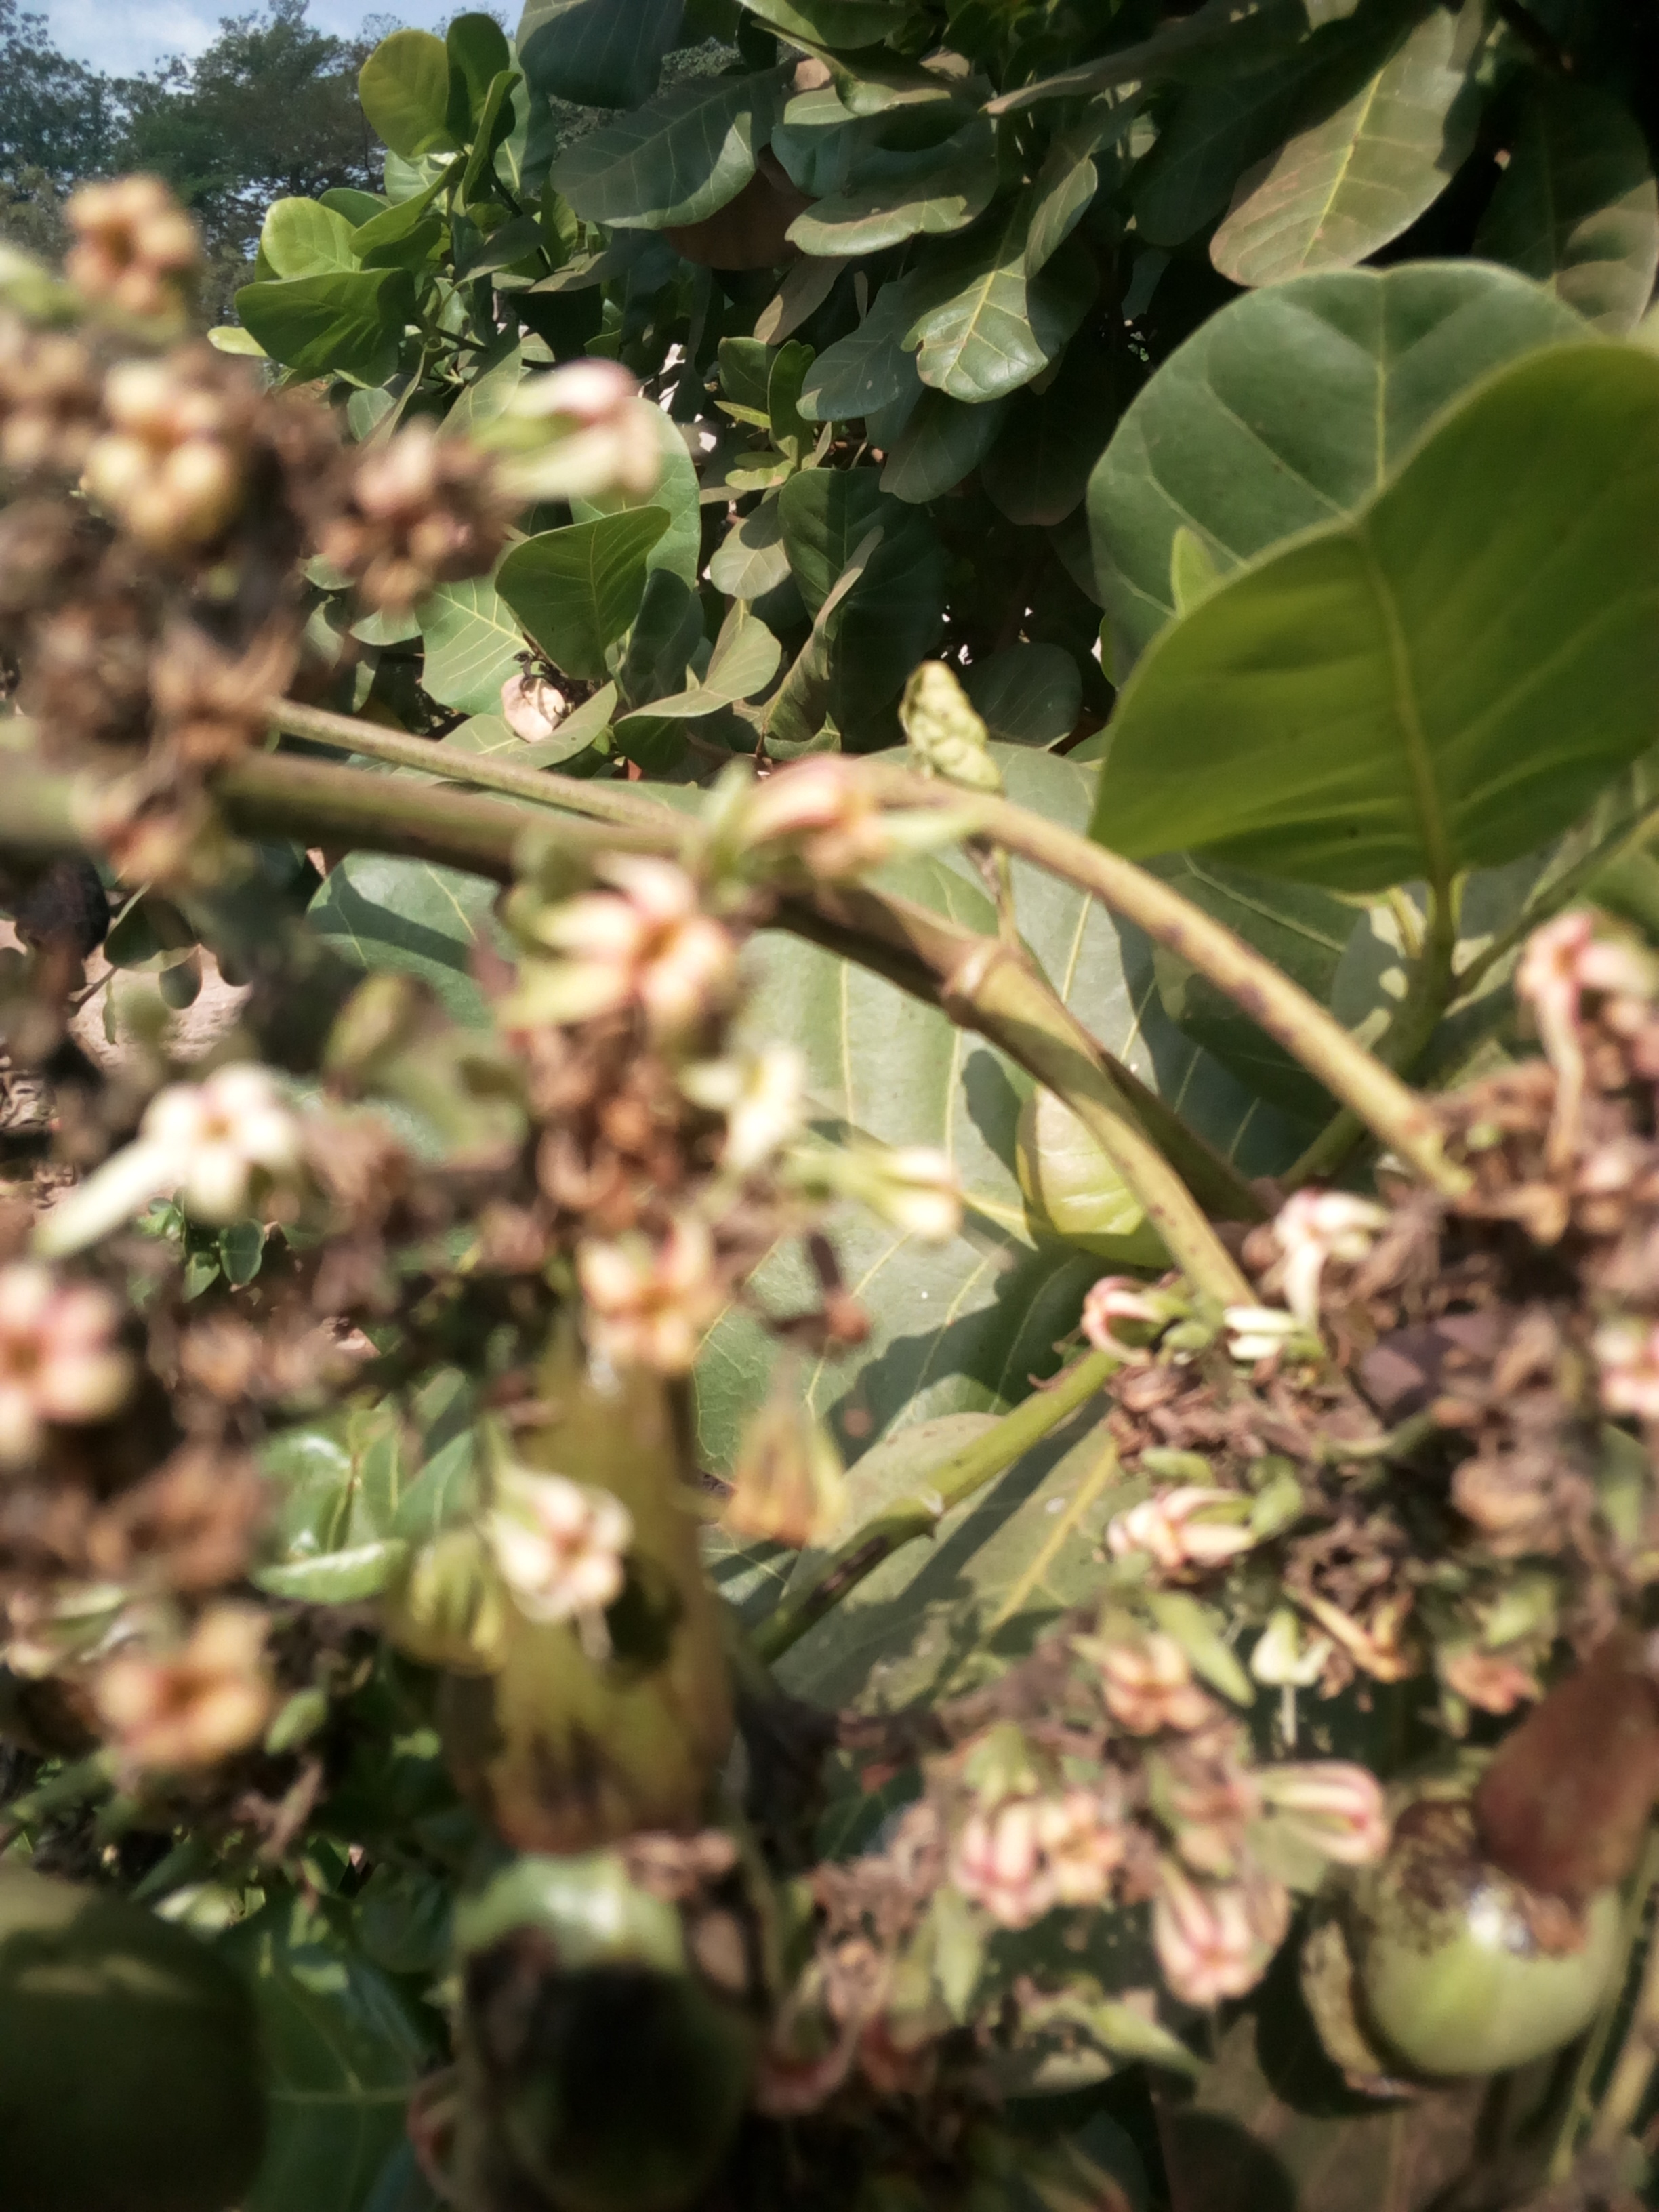Bactériose: (1364, 1648, 1647, 2095)
